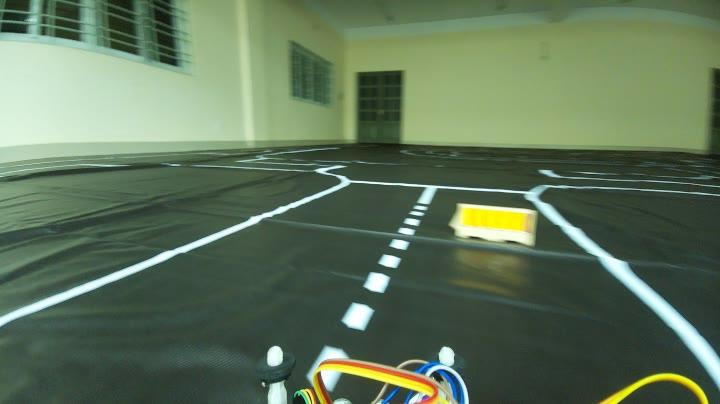roadblock: (442, 196, 546, 262)
